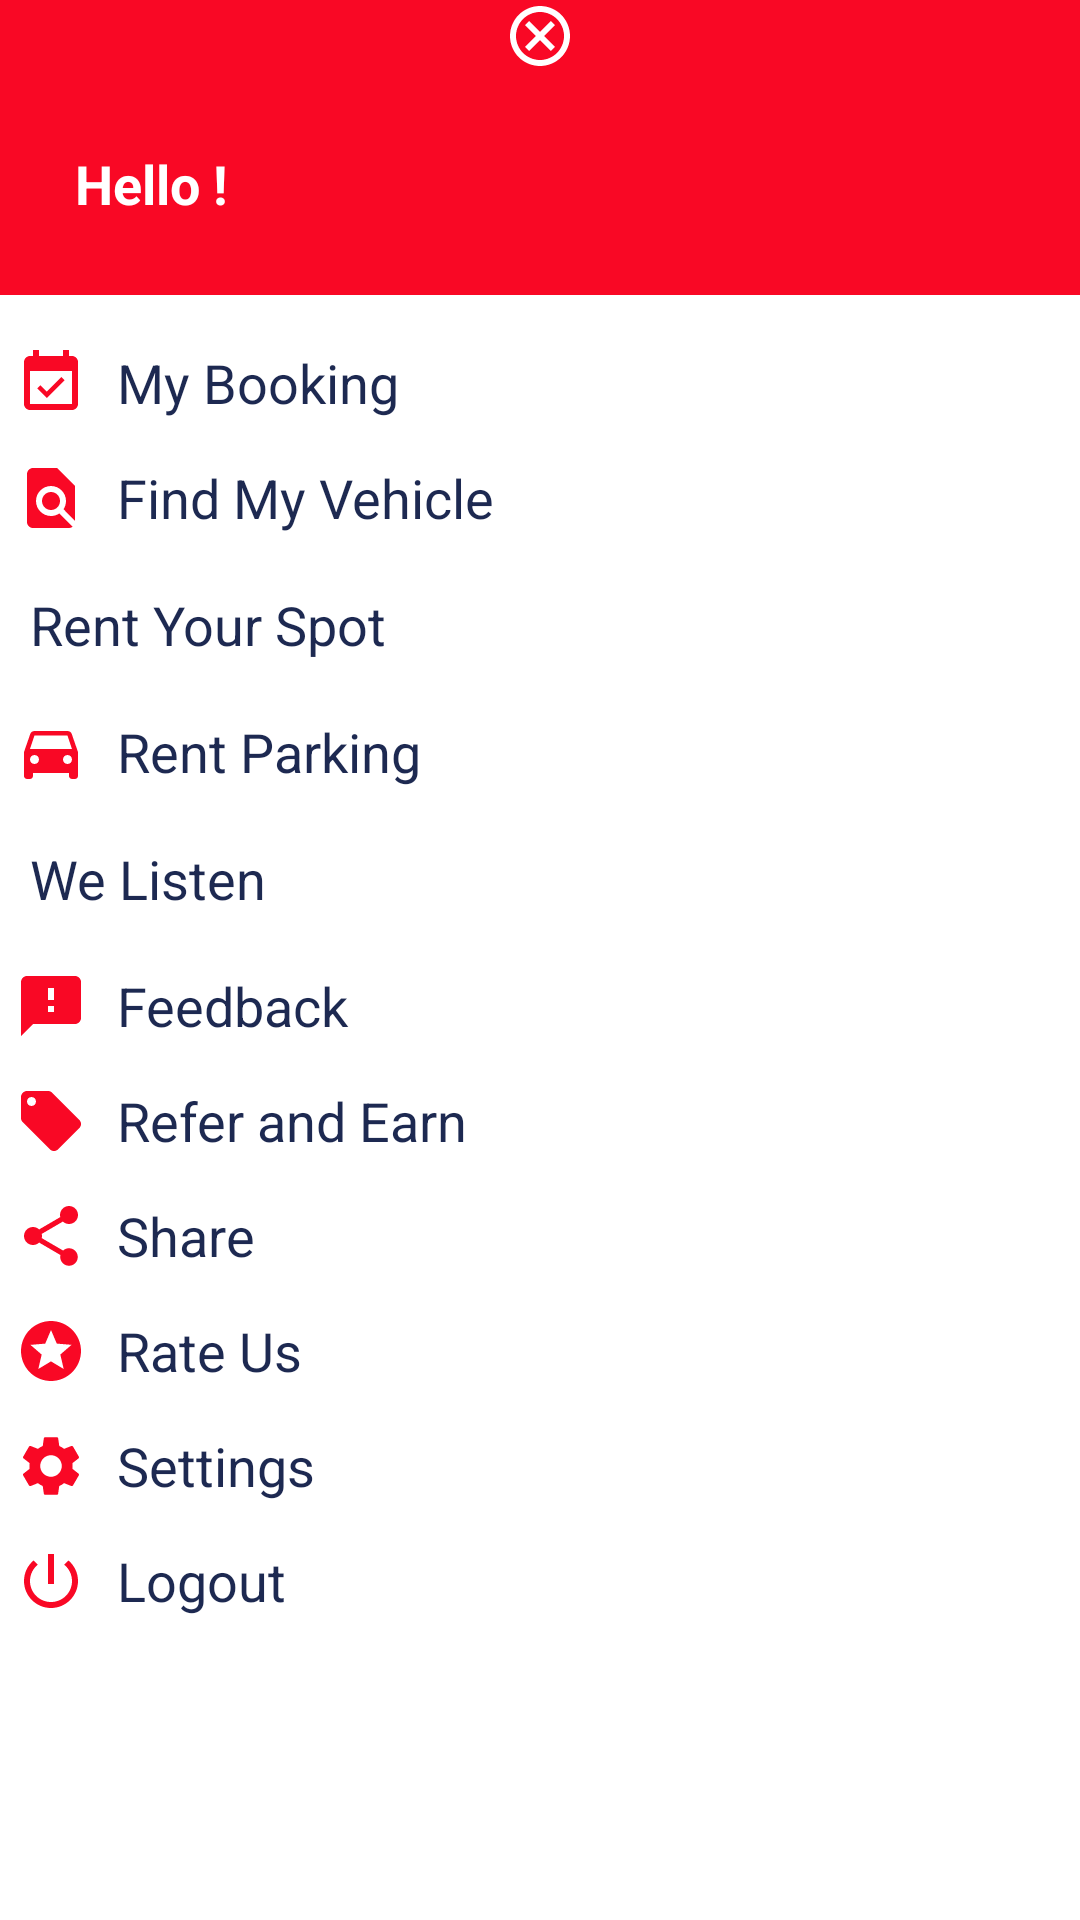

Icon bounding boxes for this 1080px×1920px phone screenshot, format (x1, y1, x2, y2):
cancel: (510, 6, 570, 66)
directions car: (24, 731, 78, 779)
event available: (24, 350, 78, 410)
find in page: (27, 468, 75, 528)
local offer: (21, 1091, 81, 1151)
stars: (21, 1321, 81, 1381)
